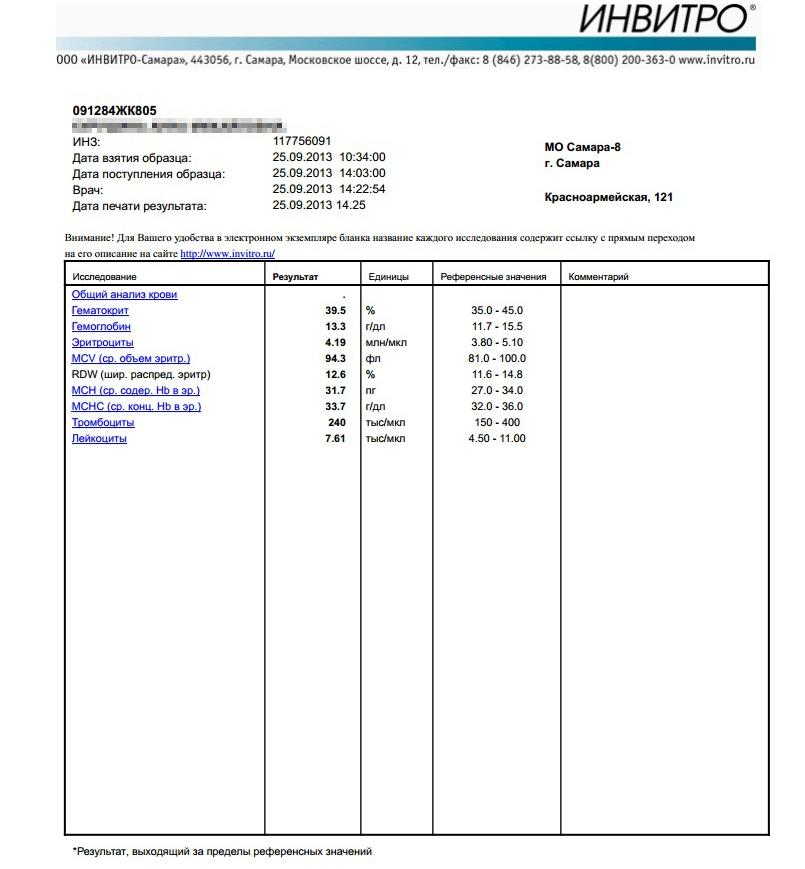column: (70, 260, 211, 835), (439, 260, 547, 835), (271, 260, 347, 835), (567, 260, 629, 835), (364, 260, 409, 835)
